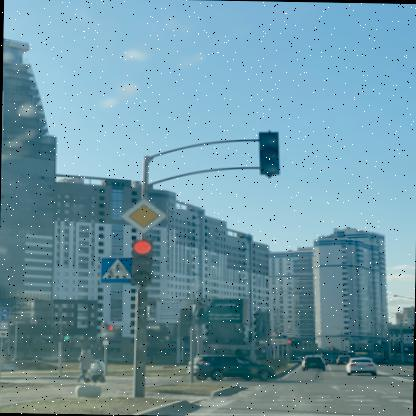crosswalk: (100, 256, 132, 283)
trafficlight: (259, 128, 284, 176), (132, 238, 156, 284)
